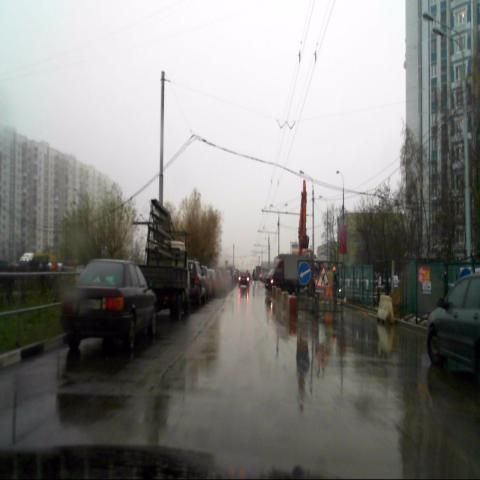1_25: (316, 264, 330, 289)
4_2_2: (297, 263, 310, 285)
